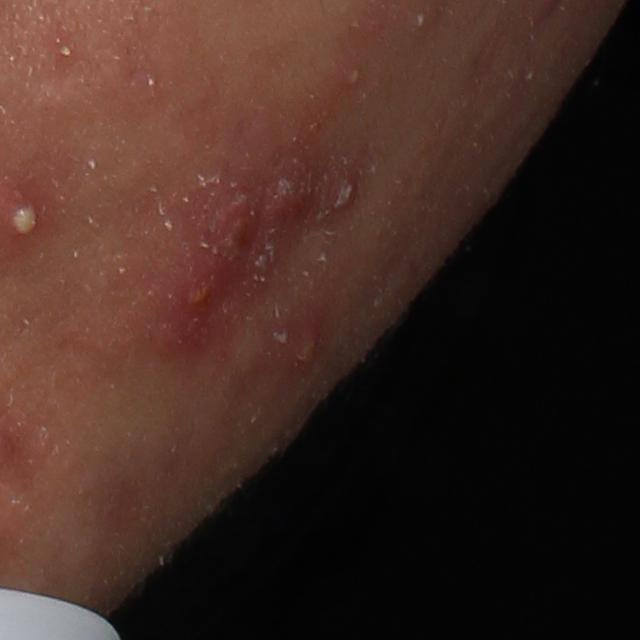papule: (204, 192, 260, 267), (262, 174, 315, 222)
pustule: (173, 258, 226, 331), (339, 60, 367, 91)
